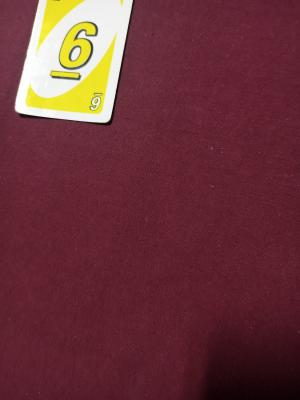num_6: (48, 10, 105, 83), (83, 82, 110, 118)
